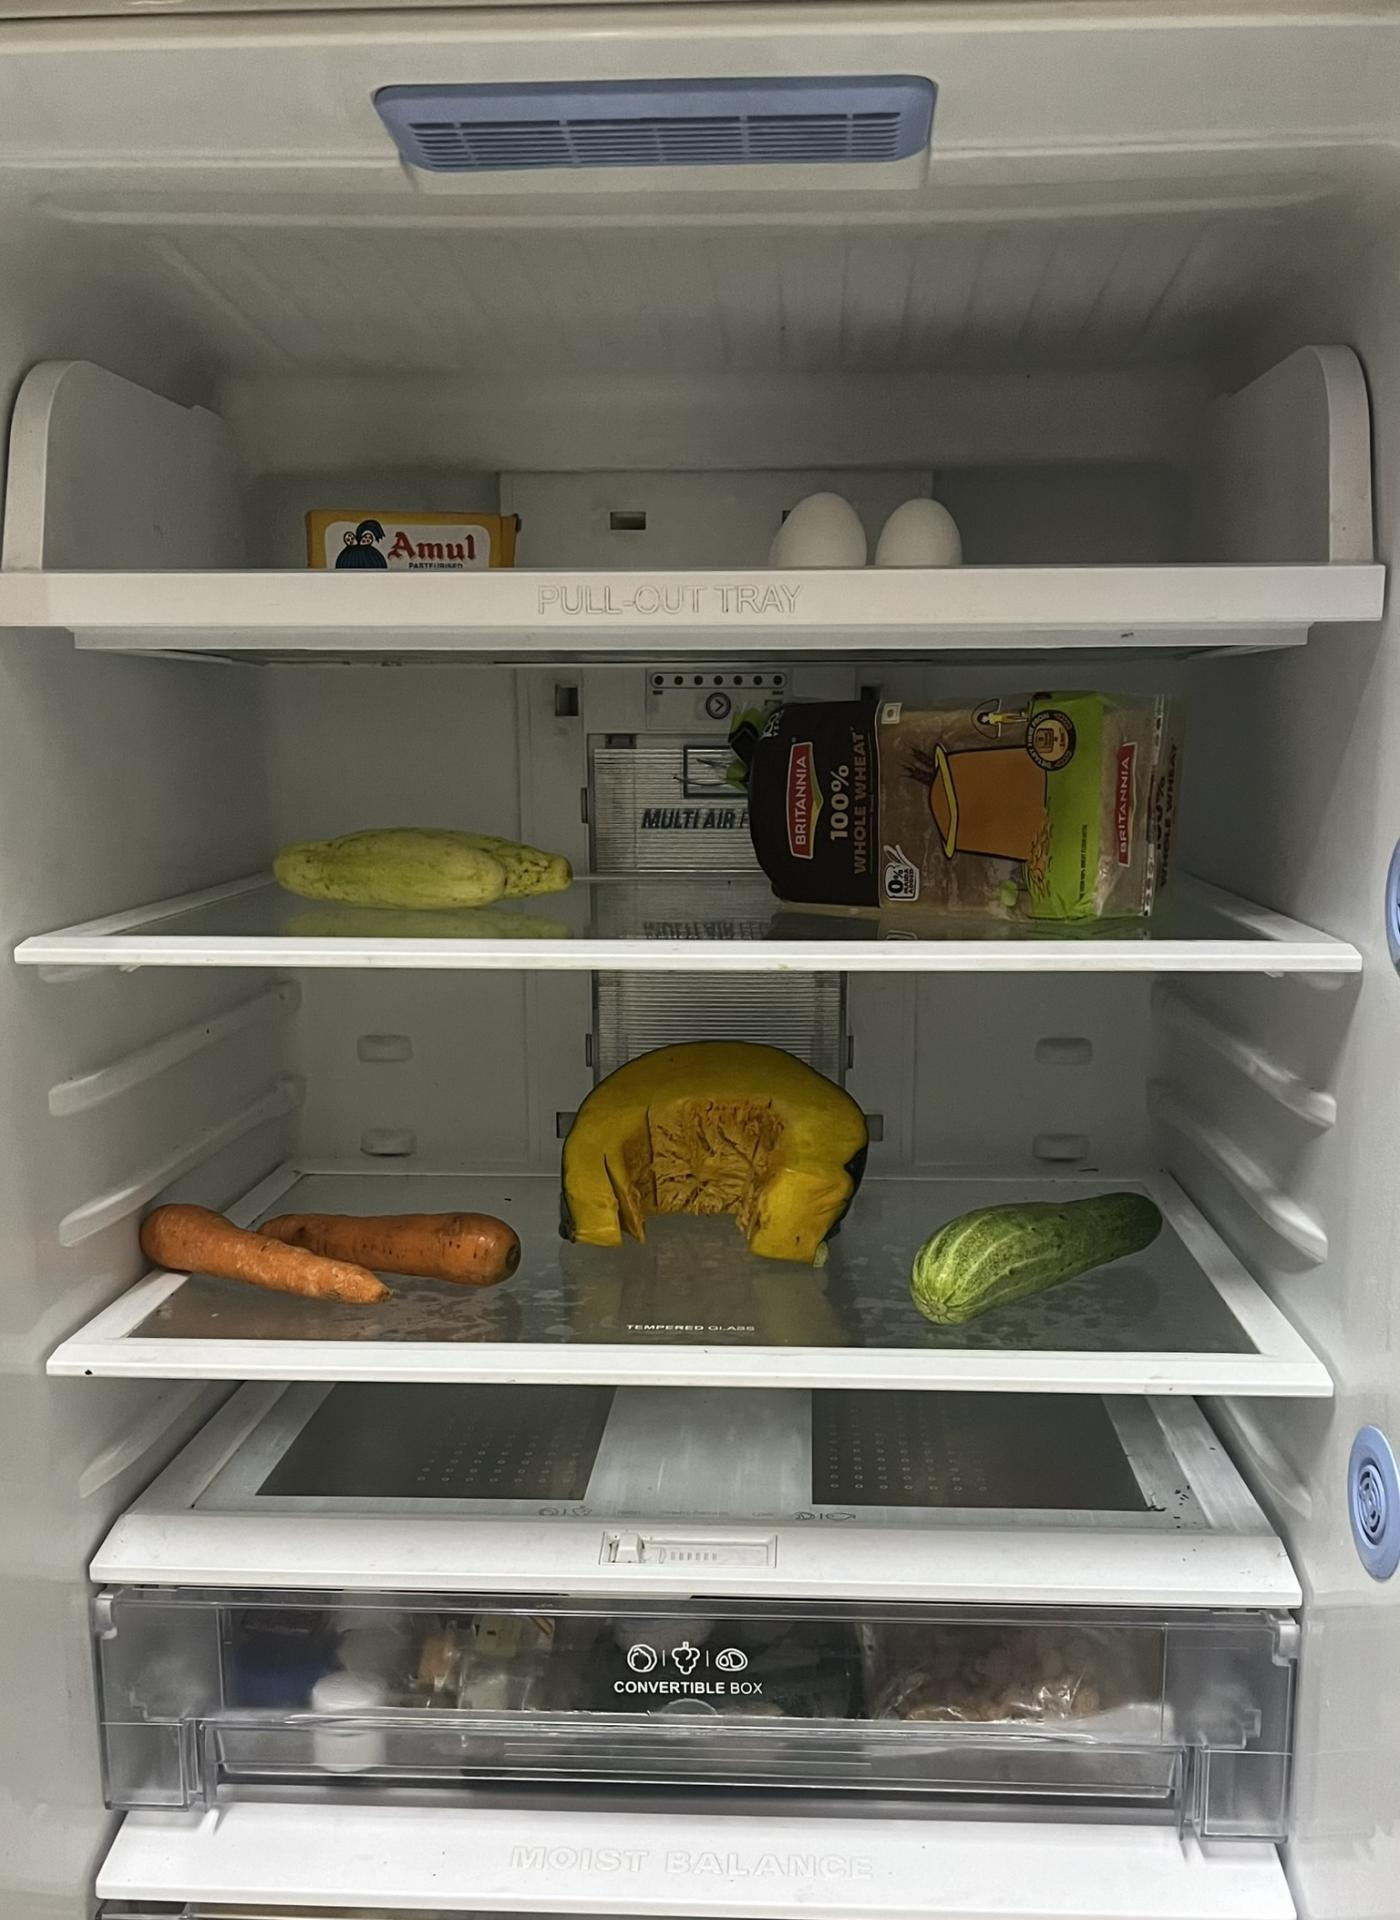bread: (732, 684, 1185, 918), (872, 496, 963, 569)
butter: (316, 504, 507, 569)
carrots: (140, 1209, 355, 1306), (240, 1216, 513, 1282)
cucumber: (914, 1188, 1160, 1334), (280, 829, 574, 909)
egg: (775, 487, 875, 569)
pumpkin: (562, 1035, 875, 1260)
